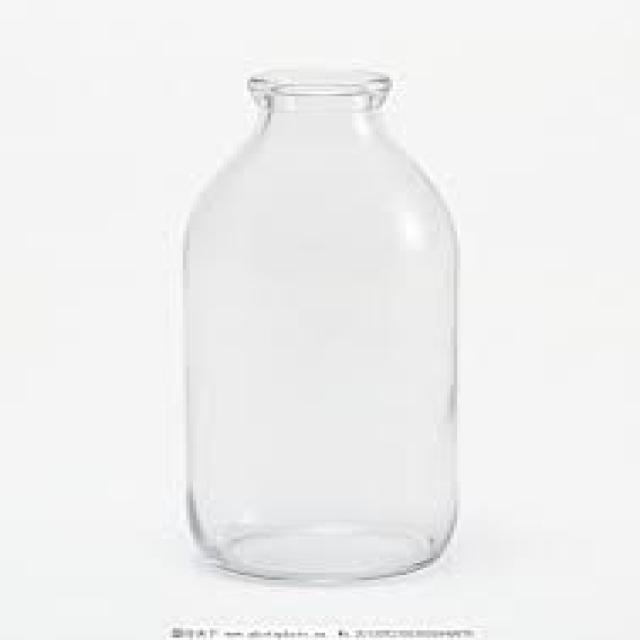glass: (176, 67, 450, 575)
